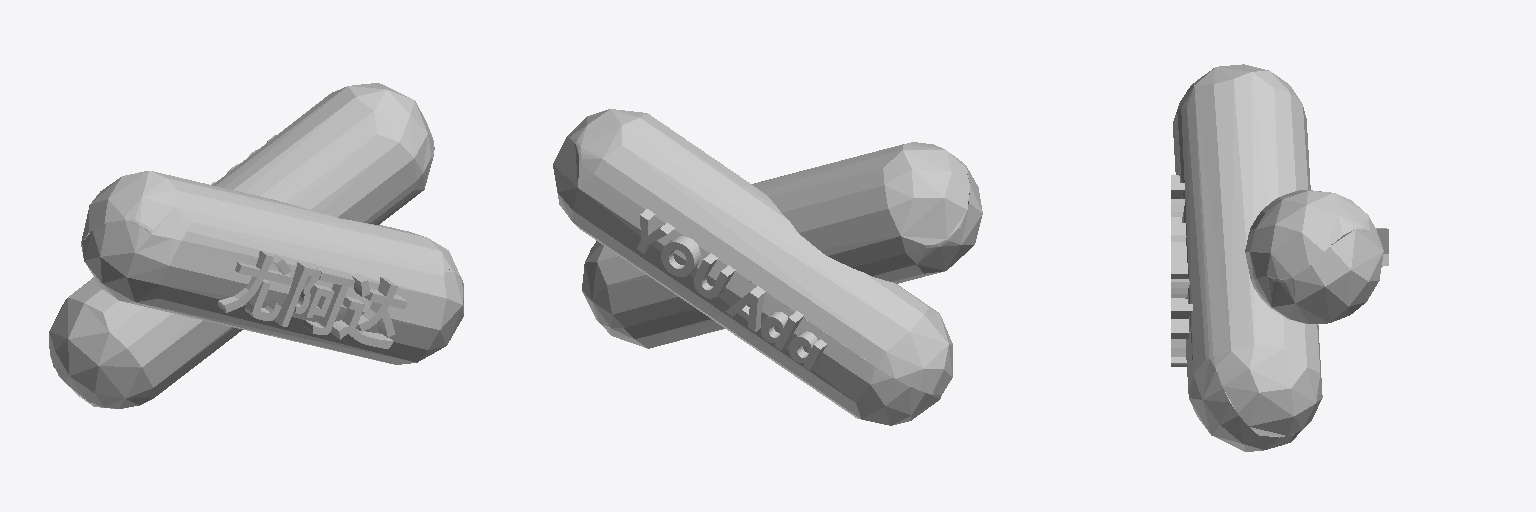
The model's file is YouAda.obj.
3 views of the same model, side by side, from view 1: azimuth 30°, elevation 25°; view 2: azimuth 150°, elevation 25°; view 3: azimuth 270°, elevation 25° (orthographic).
Visible parts, largest first — view 1: root_3, root_2, node_id876; view 2: root_2, root_3, node_id887; view 3: root_3, root_2, node_id876.
Boxes of the visible parts, x1=… form: root_3: x1=81, y1=171, x2=463, y2=364; root_2: x1=49, y1=83, x2=434, y2=408; node_id876: x1=218, y1=250, x2=407, y2=348; root_2: x1=553, y1=109, x2=952, y2=425; root_3: x1=582, y1=142, x2=982, y2=348; node_id887: x1=637, y1=209, x2=826, y2=370; root_3: x1=1173, y1=64, x2=1322, y2=451; root_2: x1=1245, y1=190, x2=1383, y2=323; node_id876: x1=1171, y1=175, x2=1192, y2=366.
Size of the model in its own units: 0.289 by 0.1836 by 0.1448.